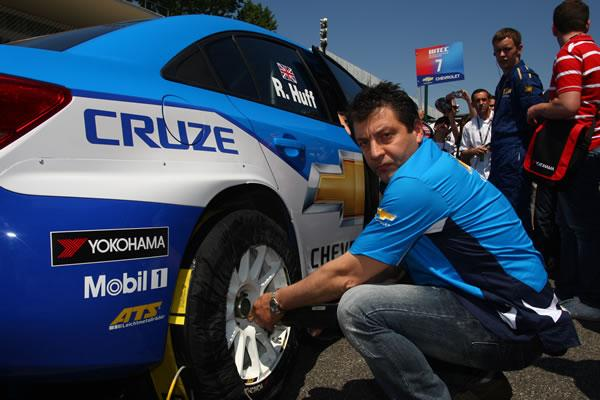person: (242, 79, 580, 400)
